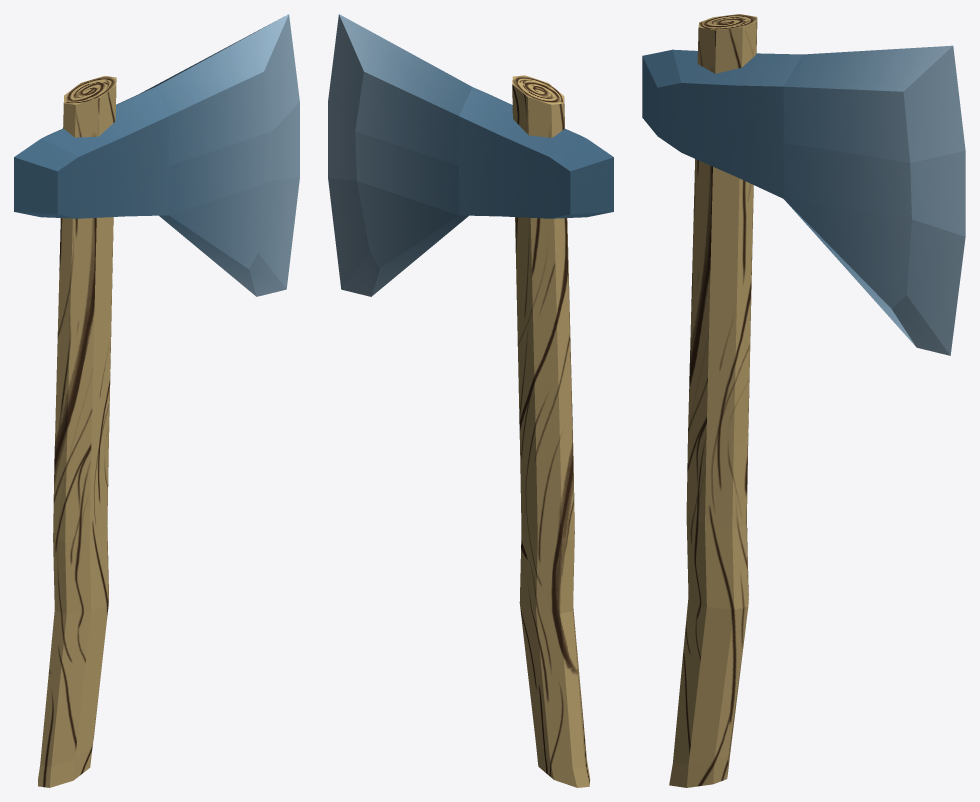
File: Machadinho_simples.fbx
3 views of the same model, side by side, from view 1: azimuth 30°, elevation 25°; view 2: azimuth 150°, elevation 25°; view 3: azimuth 330°, elevation 25° (orthographic). The views are drawn at different scales.
Visible parts, largest first — view 1: Plane, Cube; view 2: Plane, Cube; view 3: Plane, Cube.
Part boxes in pixels (bbox=[...]): Plane: bbox=[14, 14, 299, 296]; Cube: bbox=[38, 76, 116, 787]; Plane: bbox=[328, 14, 613, 296]; Cube: bbox=[512, 75, 590, 787]; Plane: bbox=[642, 45, 965, 355]; Cube: bbox=[669, 14, 757, 787].
Size of the model in its own units: 43.5 by 103 by 7.92.
